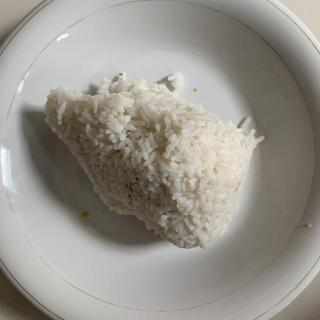Nasi: (47, 85, 255, 249)
